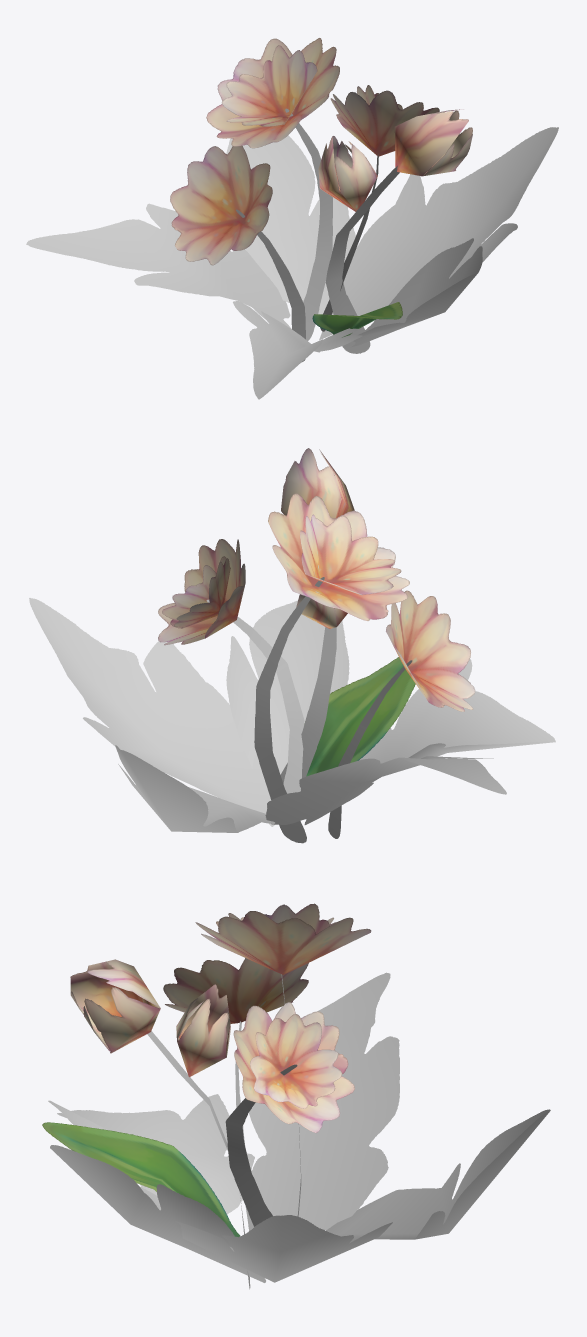
Rendered from geo_flower_04.fbx.
3 views of the same model, one above another, from view 1: azimuth 30°, elevation 25°; view 2: azimuth 150°, elevation 25°; view 3: azimuth 270°, elevation 25° (orthographic). The views are drawn at different scales.
Parts seen in each view (by area): view 1: Circle.014; view 2: Circle.014; view 3: Circle.014.
Part boxes in pixels (bbox=[...]): Circle.014: bbox=[26, 38, 558, 399]; Circle.014: bbox=[29, 448, 555, 843]; Circle.014: bbox=[42, 903, 550, 1289].
Size of the model in its own units: 3.27 by 2.16 by 2.63.
